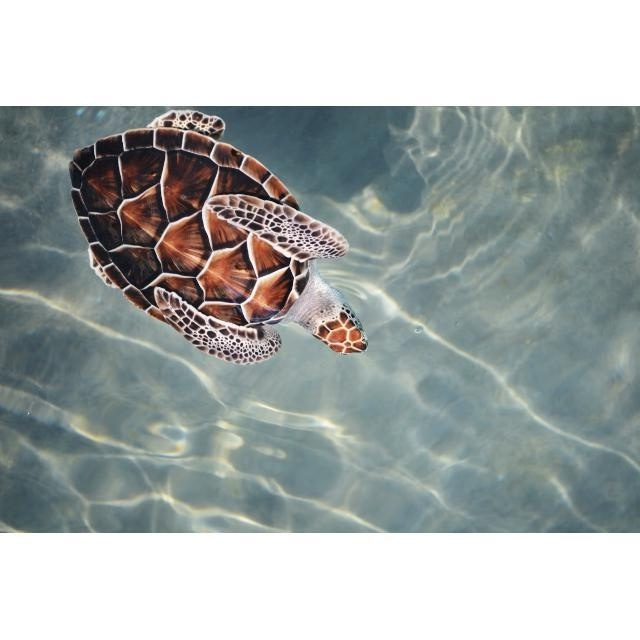turtle: (68, 110, 367, 364)
